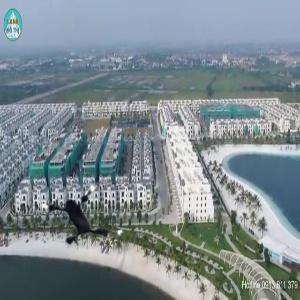drone: (34, 162, 136, 264)
